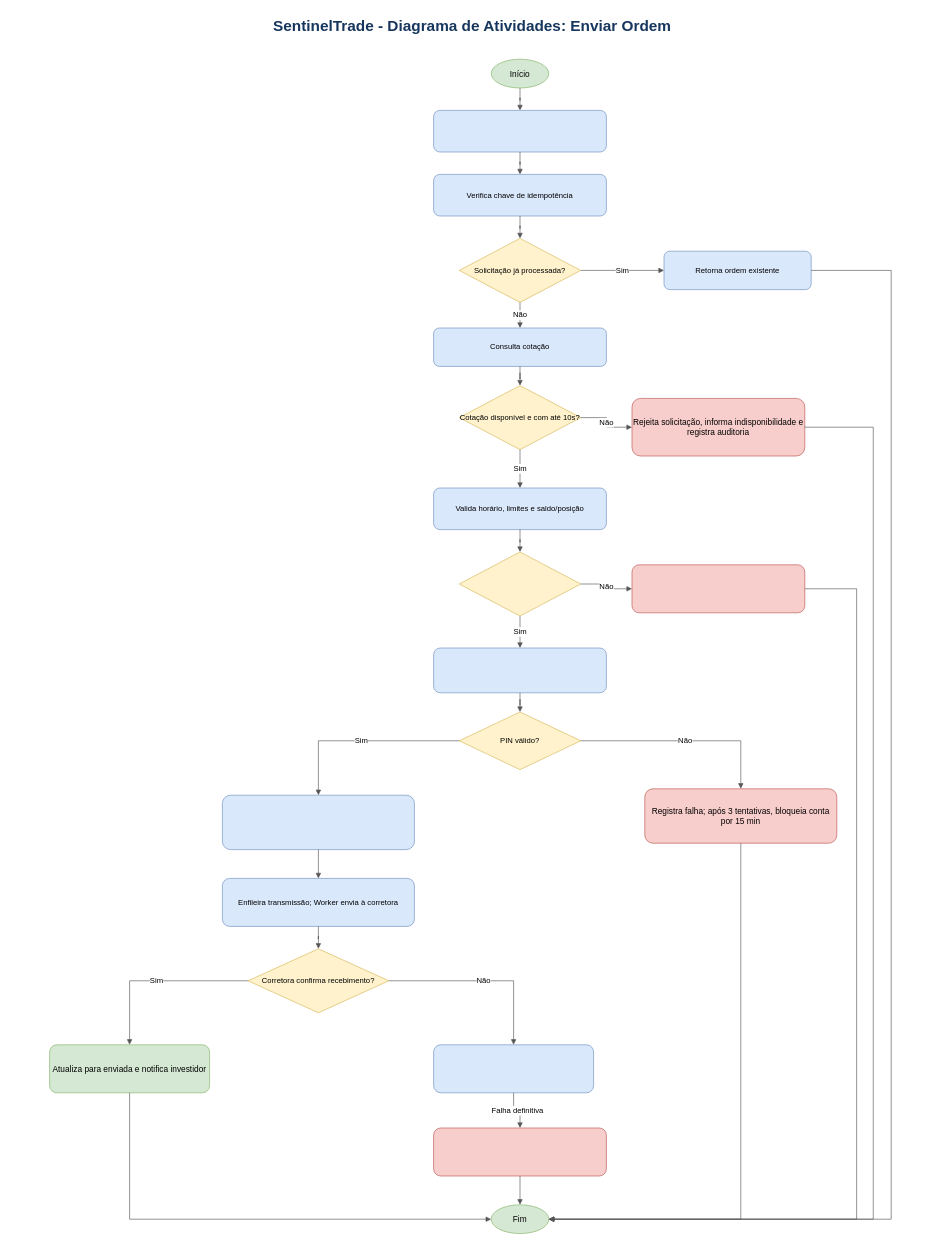
This 943x1245 diagram has some shape labels left out. Each missing label, with the box of its shape:
Apresenta resumo, solicita e valida PIN: (433, 647, 606, 693)
Até 3 retentativas com mesma chave: (433, 1044, 594, 1093)
Cria ordem e reserva saldo/ posição; gera chave e audita: (222, 795, 414, 850)
Investidor informa ativo, quantidade e tipo/preço: (433, 110, 606, 152)
Rejeita ordem com motivo e registra auditoria: (631, 564, 805, 613)
Trata falha, libera reserva quando seguro e informa: (433, 1127, 606, 1176)
Validações aprovadas?: (459, 551, 581, 616)
